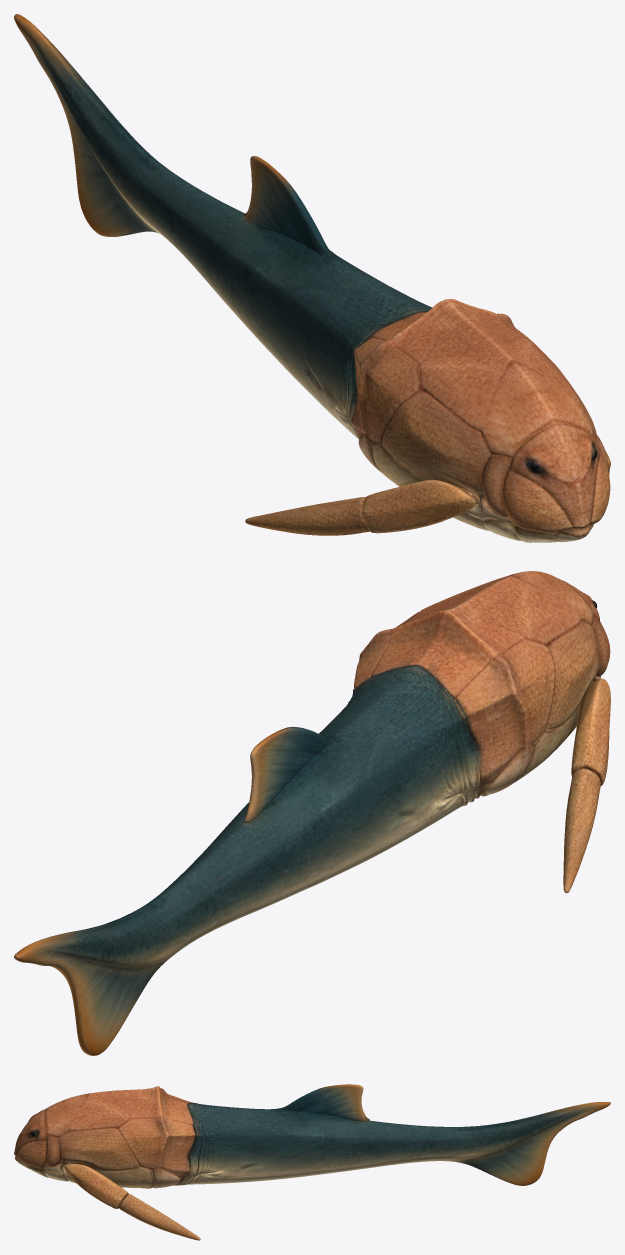
File: model-v2cf79dbe5bc7.glb
3 renders of one model, top to bottom at view 1: azimuth 30°, elevation 25°; view 2: azimuth 150°, elevation 25°; view 3: azimuth 270°, elevation 25°, orthographic. The views are drawn at different scales.
Parts seen in each view (by area): view 1: Authored orientation; view 2: Authored orientation; view 3: Authored orientation.
Boxes of the visible parts, bbox=[...] form: Authored orientation: bbox=[14, 14, 610, 542]; Authored orientation: bbox=[14, 571, 610, 1055]; Authored orientation: bbox=[14, 1084, 610, 1240].
Bounding box in the file's own units: 0.1446 × 0.0936 × 0.44.
Materials: 1 (1 with a texture image).
